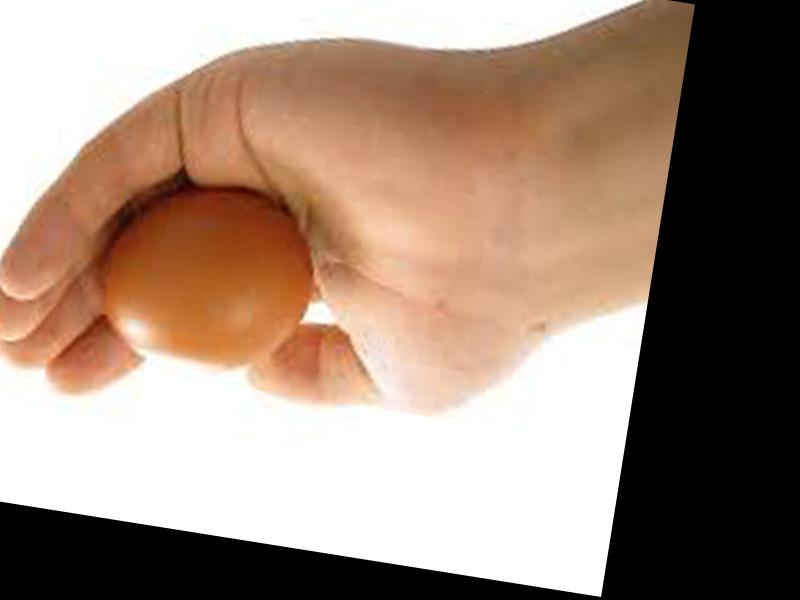Eggs: (76, 174, 326, 383)
